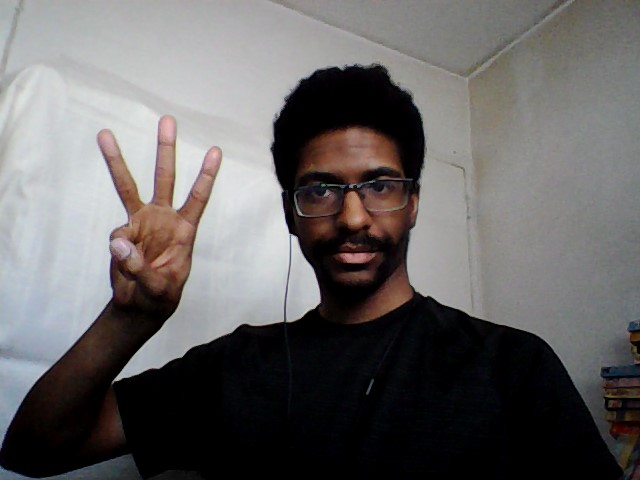w: (90, 108, 226, 310)
